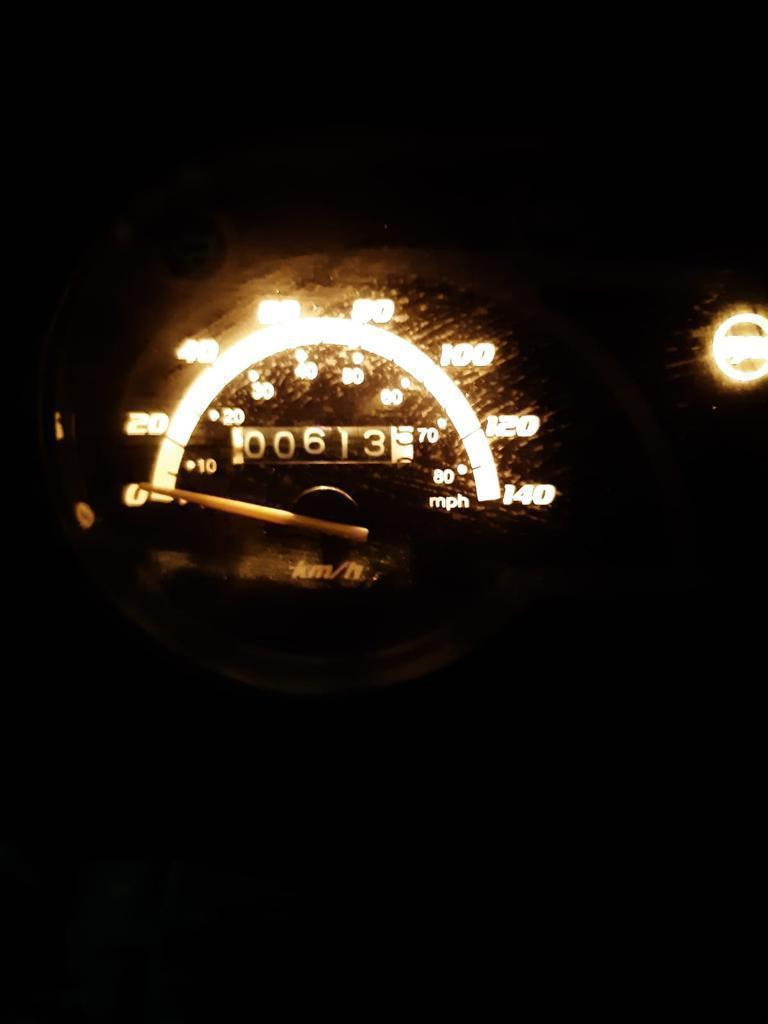0: (243, 429, 267, 460), (272, 429, 296, 460)
1: (335, 428, 352, 460)
3: (361, 428, 387, 459)
5: (395, 423, 415, 448)
6: (301, 426, 327, 456)
odometer: (226, 420, 417, 469)
